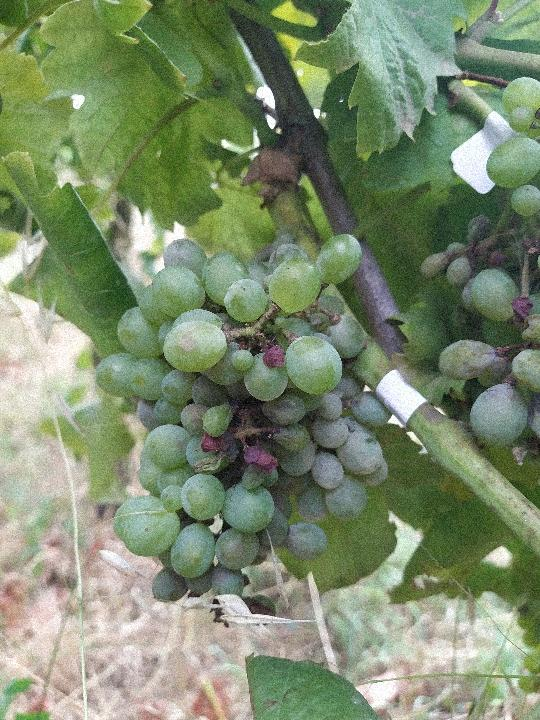grape: (90, 230, 393, 607)
